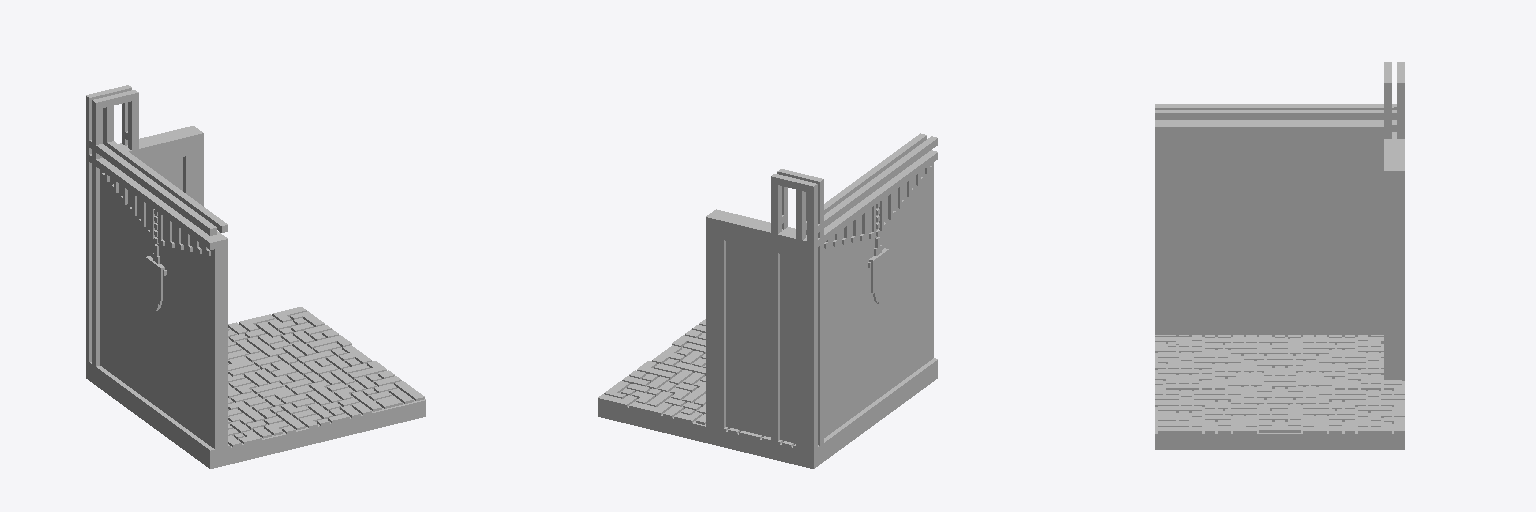
File: CityOuterWall-0.obj
The picture shows the model from 3 angles: view 1: azimuth 30°, elevation 25°; view 2: azimuth 150°, elevation 25°; view 3: azimuth 270°, elevation 25°; orthographic projection.
Parts seen in each view (by area): view 1: object 1; view 2: object 1; view 3: object 1.
Part boxes in pixels (x1,y1,x2,y2): object 1: (86, 85, 425, 468); object 1: (598, 133, 937, 468); object 1: (1155, 62, 1404, 449).
Bounding box in the file's own units: 9.6 × 12 × 9.6.